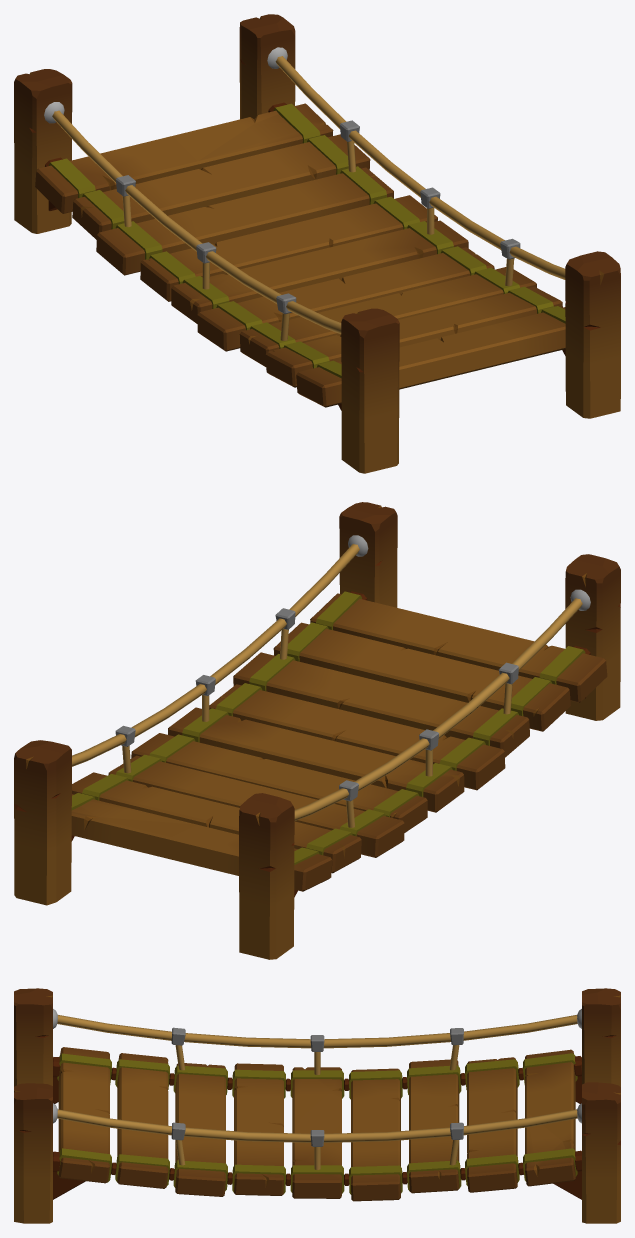
The model's file is Bridge03.fbx.
3 renders of one model, top to bottom at view 1: azimuth 30°, elevation 25°; view 2: azimuth 150°, elevation 25°; view 3: azimuth 270°, elevation 25°, orthographic. The views are drawn at different scales.
Visible parts, largest first — view 1: LOD0; view 2: LOD0; view 3: LOD0.
Boxes of the visible parts, x1,y1,x2,y2 form: LOD0: [14, 14, 620, 473]; LOD0: [14, 502, 620, 959]; LOD0: [14, 988, 620, 1223].
Size of what is drawn, in the model's own units: 639 by 1369 by 310.
